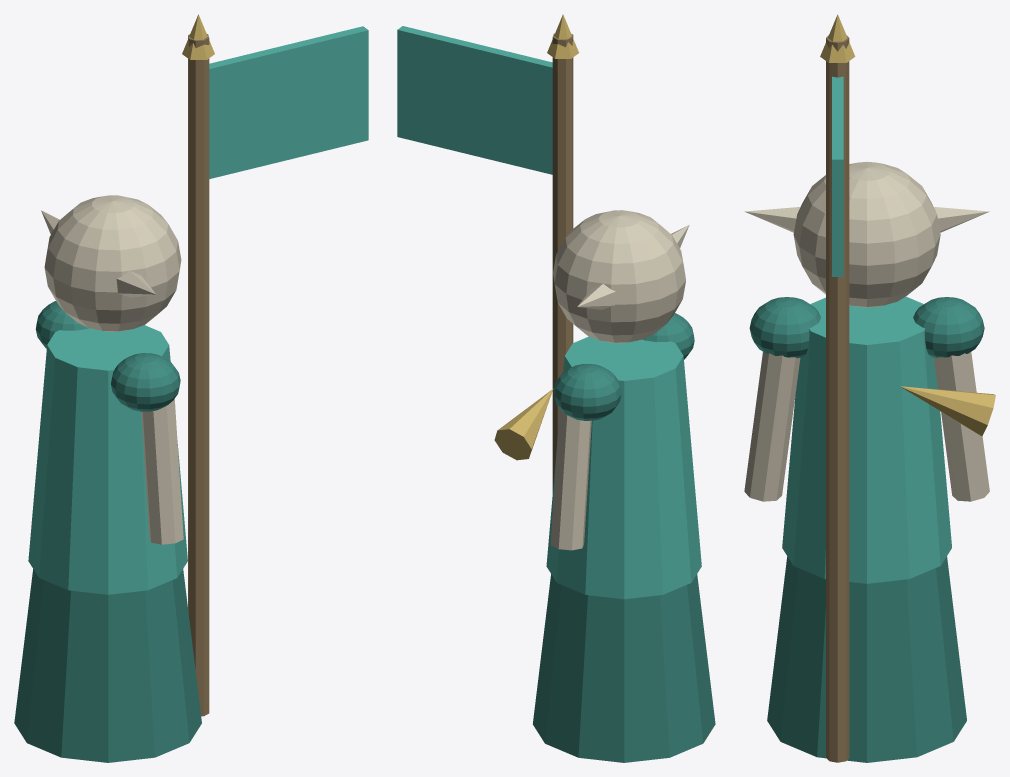
The model's file is hero_yllien_4.glb.
3 renders of one model, left to right at view 1: azimuth 30°, elevation 25°; view 2: azimuth 150°, elevation 25°; view 3: azimuth 270°, elevation 25°, orthographic. The views are drawn at different scales.
Visible parts, largest first — view 1: figurka; view 2: figurka; view 3: figurka.
Boxes of the visible parts, left/top/right/bottom form: figurka: left=14, top=14, right=368, bottom=762; figurka: left=397, top=14, right=715, bottom=762; figurka: left=744, top=14, right=995, bottom=762.
Bounding box in the file's own units: 0.68 × 1.4 × 0.428.
